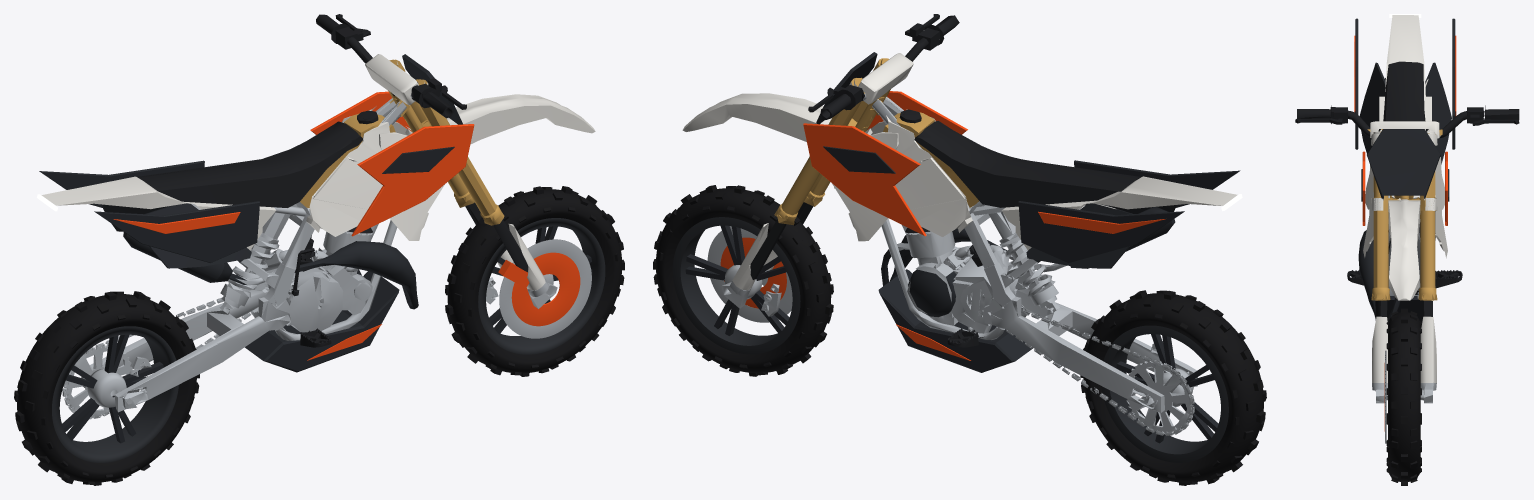
File: supermoto_factory.glb
The picture shows the model from 3 angles, left to right: view 1: azimuth 30°, elevation 25°; view 2: azimuth 150°, elevation 25°; view 3: azimuth 270°, elevation 25°; orthographic projection. The views are drawn at different scales.
Parts seen in each view (by area): view 1: body_metal, wheel_rear_tire, wheel_front_tire, body_seat, body_plastic_paint, swingarm_metal, shroud_blade_L, wheel_rear_rim, tail_panel_L, front_end_plastic_paint, wheel_front_rim, belly_pan (+17 smaller); view 2: body_metal, wheel_rear_tire, wheel_front_tire, body_plastic_paint, body_seat, swingarm_metal, shroud_blade_R, wheel_front_rim, front_end_plastic_paint, tail_panel_R, wheel_rear_rim, belly_pan (+17 smaller); view 3: wheel_front_tire, front_end_plate_white, front_end_plastic_paint, body_plastic_paint, front_end_frame, body_seat, body_plate_white, front_end_seat, fork_lowers_plastic_paint, wheel_front_knobs, body_dark_metal, fork_lowers_metal (+6 smaller).
Part boxes in pixels (<box>): body_metal: <box>62,98,498,416</box>; wheel_rear_tire: <box>17,294,196,482</box>; wheel_front_tire: <box>447,189,621,373</box>; body_seat: <box>137,110,378,347</box>; body_plastic_paint: <box>41,106,444,250</box>; swingarm_metal: <box>81,284,289,412</box>; shroud_blade_L: <box>351,124,474,236</box>; wheel_rear_rim: <box>52,326,178,462</box>; tail_panel_L: <box>94,201,259,262</box>; front_end_plastic_paint: <box>365,54,595,144</box>; wheel_front_rim: <box>478,218,605,354</box>; belly_pan: <box>245,271,399,372</box>; body_metal: <box>761,96,1193,435</box>; wheel_rear_tire: <box>1083,293,1263,482</box>; wheel_front_tire: <box>656,188,831,373</box>; body_plastic_paint: <box>815,109,1237,250</box>; body_seat: <box>899,109,1139,347</box>; swingarm_metal: <box>990,282,1197,419</box>; shroud_blade_R: <box>803,123,926,236</box>; wheel_front_rim: <box>672,217,800,354</box>; front_end_plastic_paint: <box>682,53,913,141</box>; tail_panel_R: <box>1018,201,1184,263</box>; wheel_rear_rim: <box>1101,325,1228,462</box>; belly_pan: <box>878,269,1033,372</box>; wheel_front_tire: <box>1388,312,1420,481</box>; front_end_plate_white: <box>1367,129,1440,198</box>; front_end_plastic_paint: <box>1370,121,1440,300</box>; body_plastic_paint: <box>1363,15,1447,258</box>; front_end_frame: <box>1367,129,1442,299</box>; body_seat: <box>1347,61,1462,288</box>; body_plate_white: <box>1359,62,1451,164</box>; front_end_seat: <box>1295,105,1519,139</box>; fork_lowers_plastic_paint: <box>1372,316,1436,382</box>; wheel_front_knobs: <box>1386,308,1421,485</box>; body_dark_metal: <box>1358,78,1418,321</box>; fork_lowers_metal: <box>1372,382,1436,403</box>.
Size of the model in its own units: 2.1 by 1.18 by 0.77.
